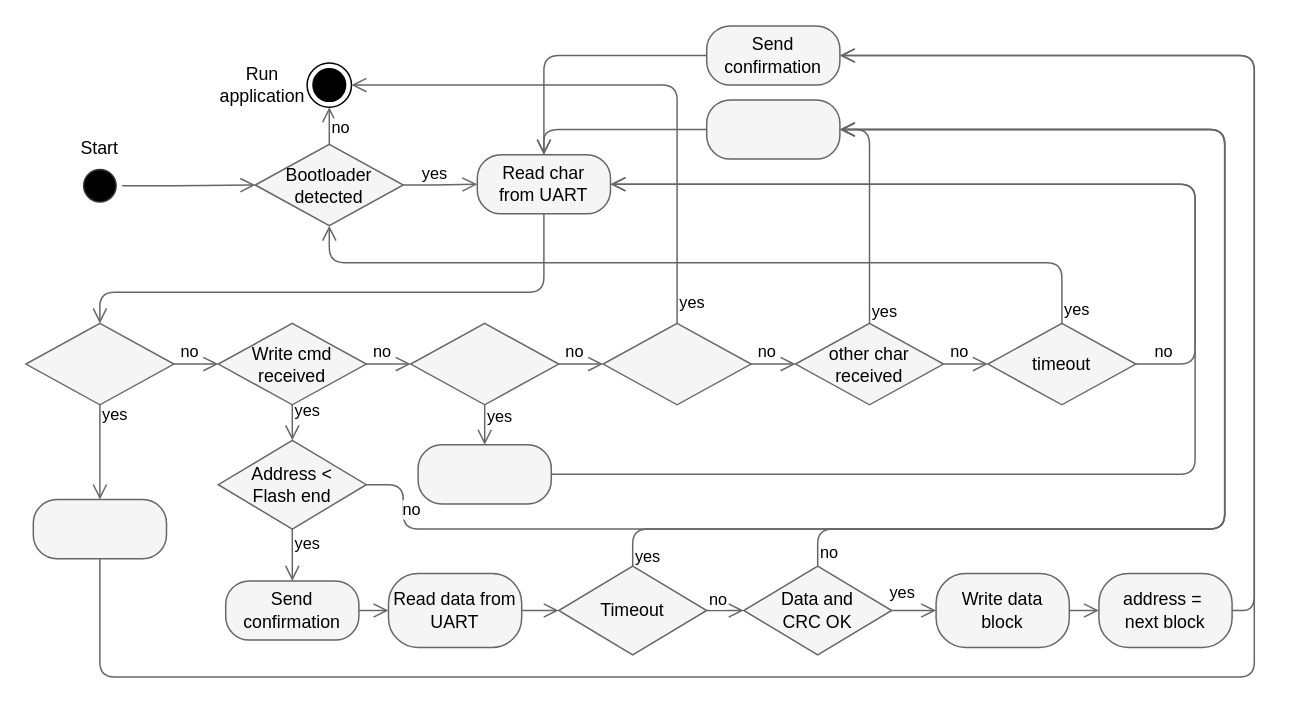
Some shapes in this 1295 by 718 pixel diagram are drawn without their labels. The shapes that lost their labels are listed below. From the top down, each one's centre as x and y in pixels, then its label:
At point 772,128: "Send error".
At point 99,363: "Erase cmd received".
At point 484,363: "Info cmd received".
At point 676,363: "Run cmd received".
At point 484,473: "Read and sent app info block".
At point 99,528: "Erase application".
